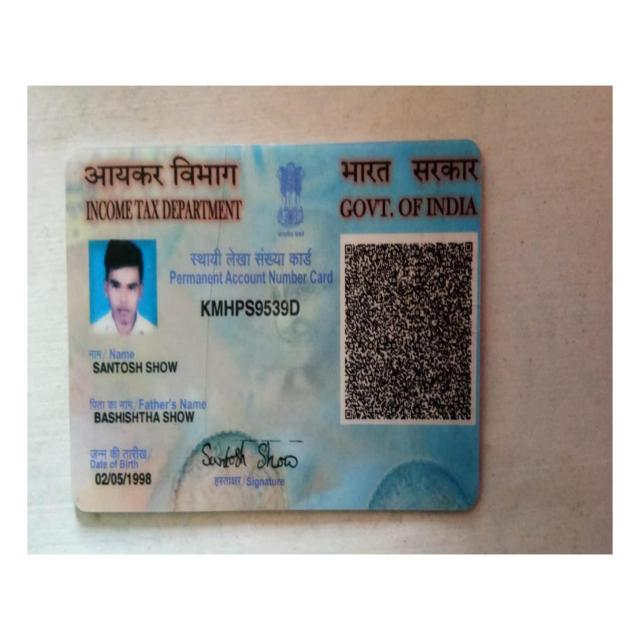pan_card: (66, 145, 479, 517)
